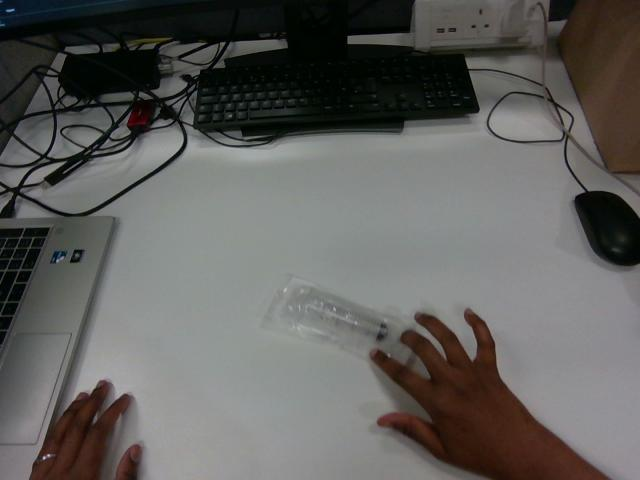syringe: (263, 276, 413, 364)
